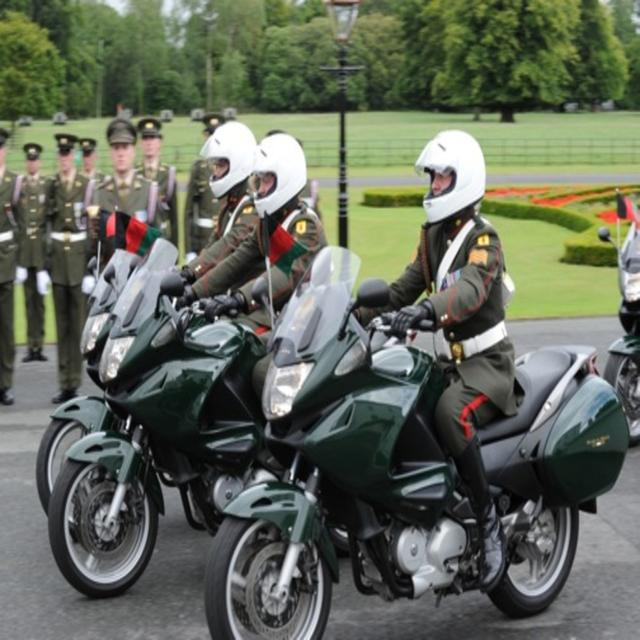License_Plate: (203, 244, 627, 636), (47, 236, 273, 597), (37, 244, 196, 507), (597, 188, 639, 453)
